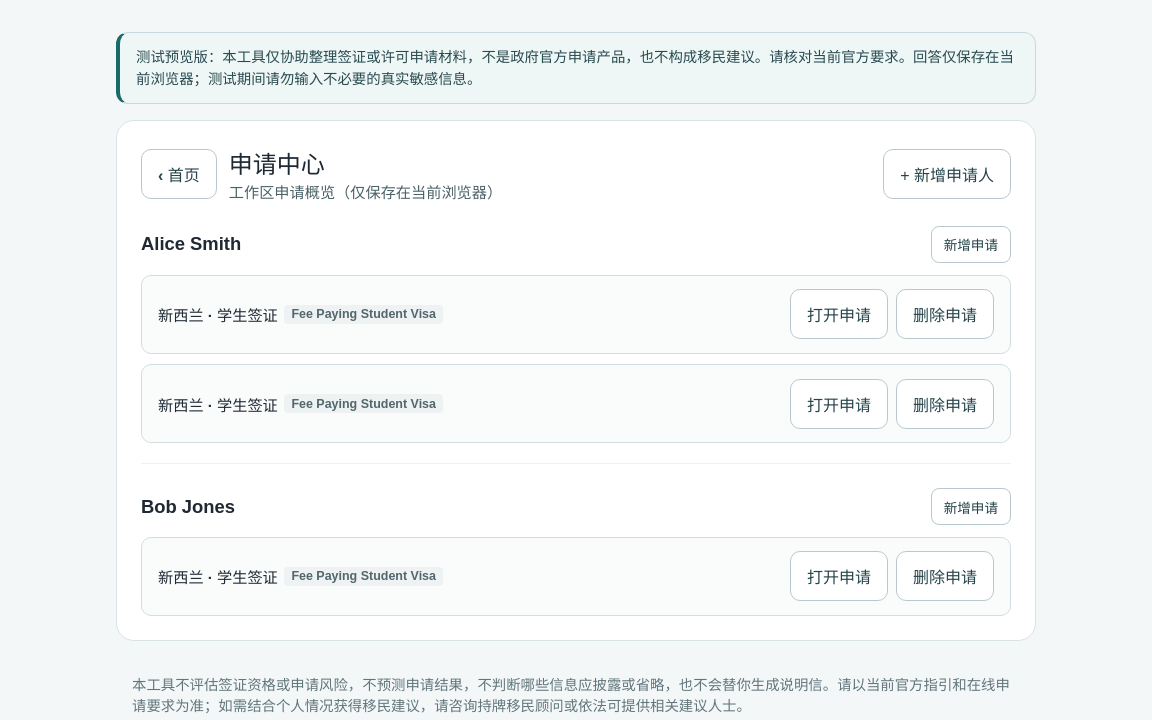
Test: Slice U1.2 — Workspace Re-entry and Application Disambiguation › Hub allows creating a new Person and transitions to route selection for that Person
Expected: the heading "申请中心" is shown, [229,151,325,178]
Click the button "+ 新增申请人" at [947, 174], box [883,149,1011,199]
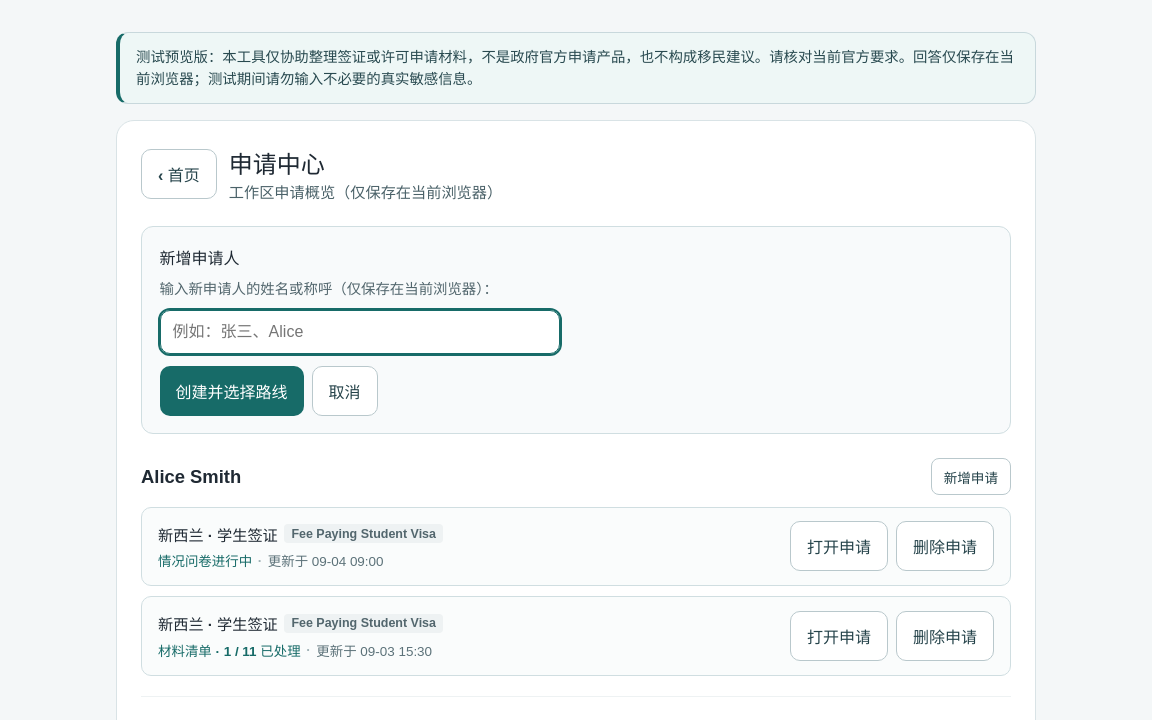
Type "David Miller" into the field with placeholder "例如：张三、Alice" at [360, 332], box [160,310,560,354]
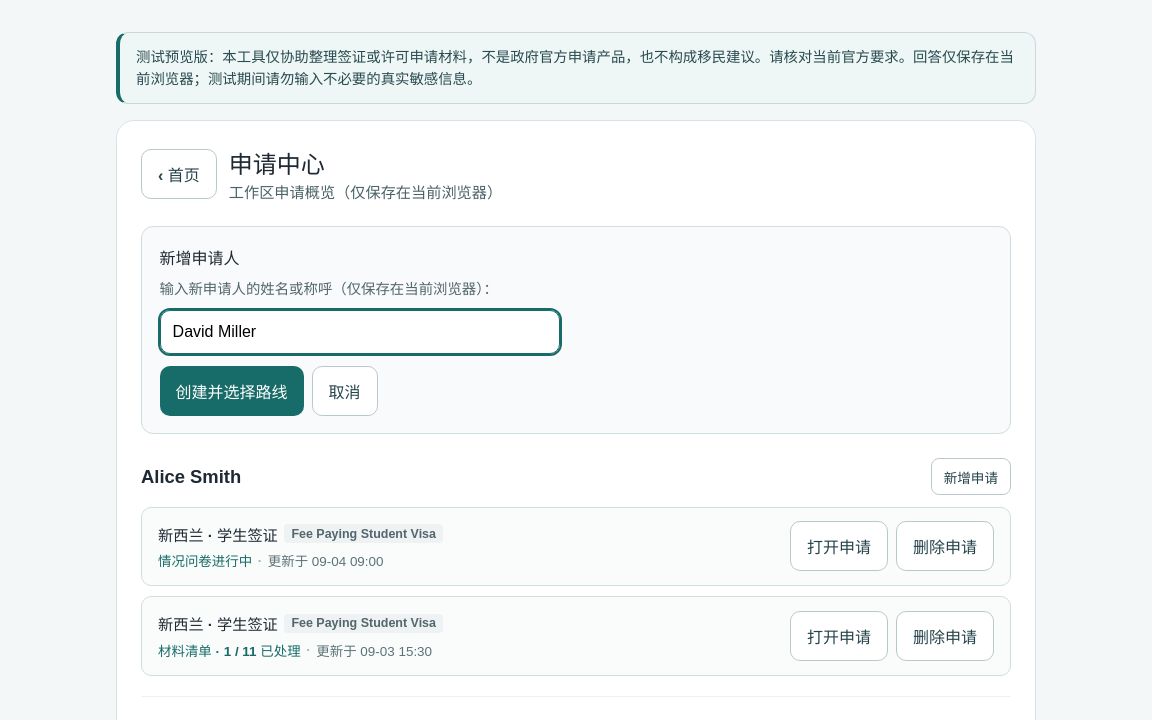
Click the button "创建并选择路线" at [232, 391], box [160,366,304,416]
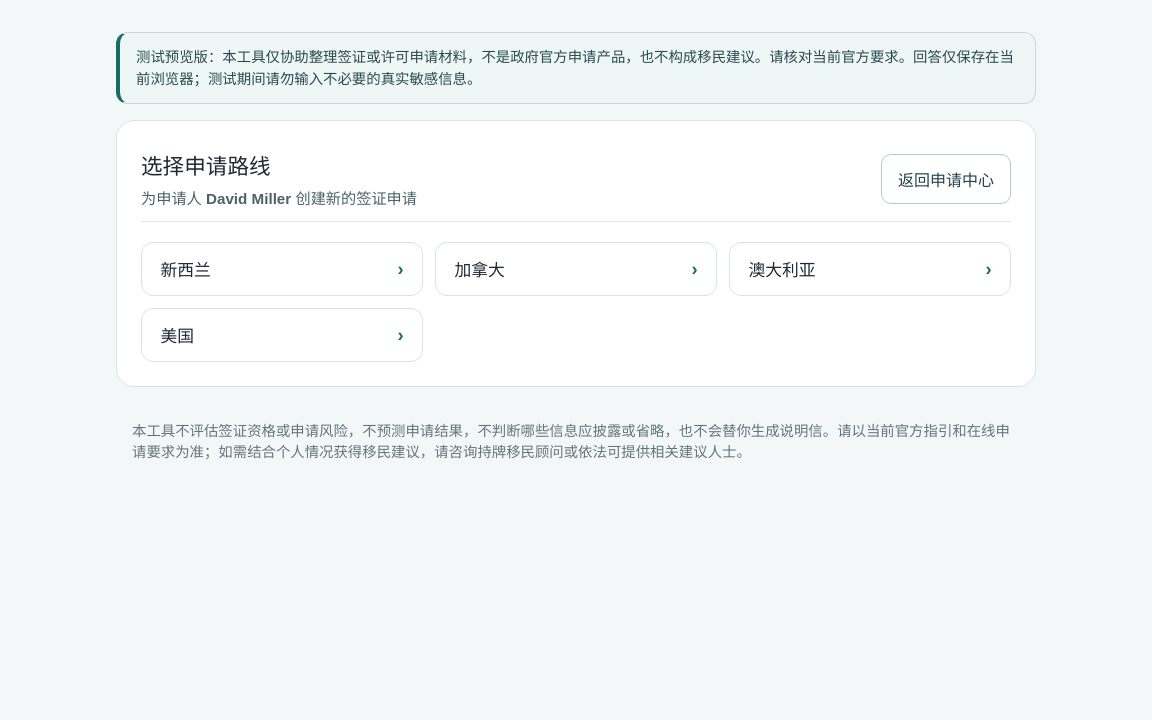
Expected: the heading "选择申请路线" is shown, [141,154,271,179]
Expected: the text "David Miller" is shown, [206,190,291,207]
